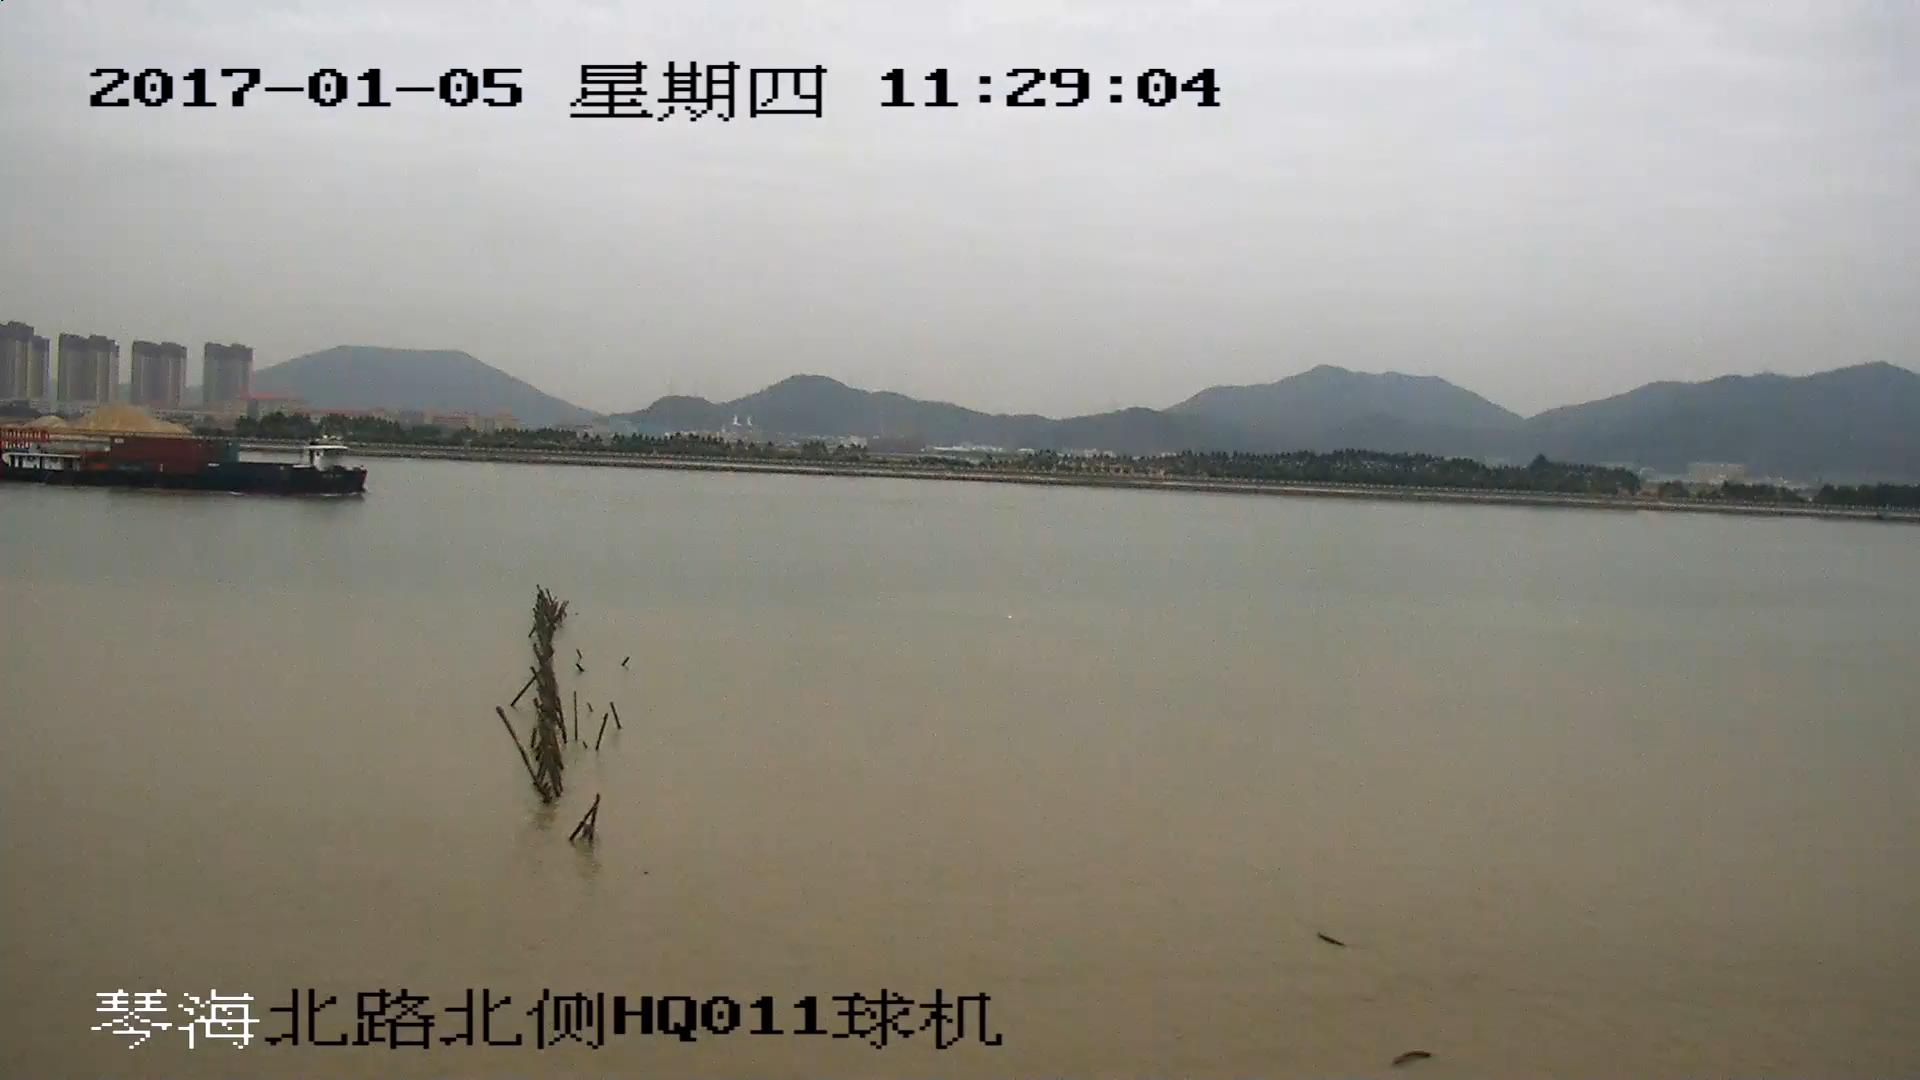container ship: (1, 433, 370, 494)
